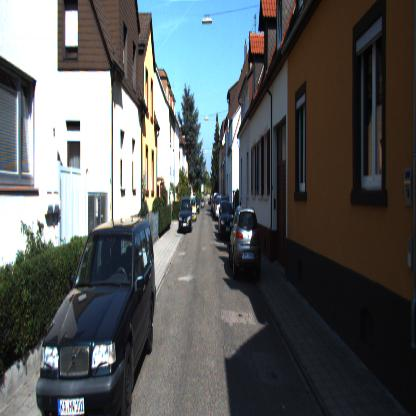car: (38, 218, 157, 414), (230, 209, 261, 280), (217, 202, 236, 242), (179, 198, 197, 234)
